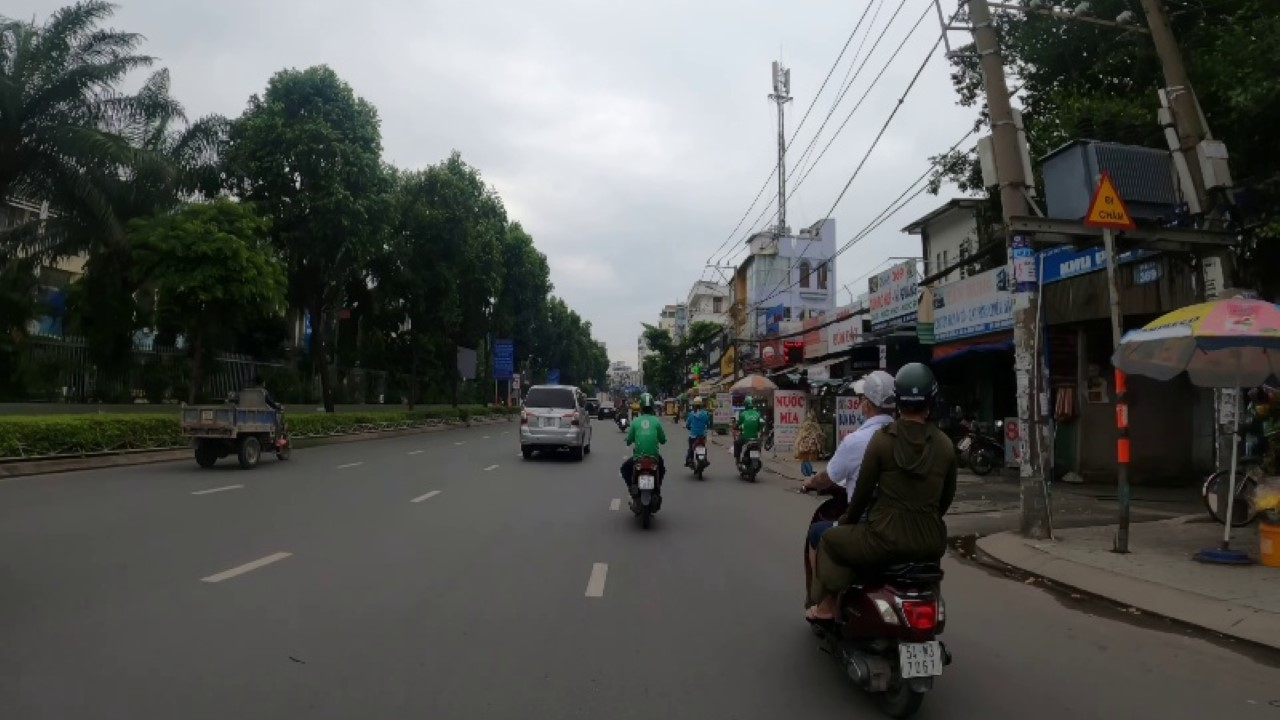di_cham: (1081, 172, 1140, 231)
